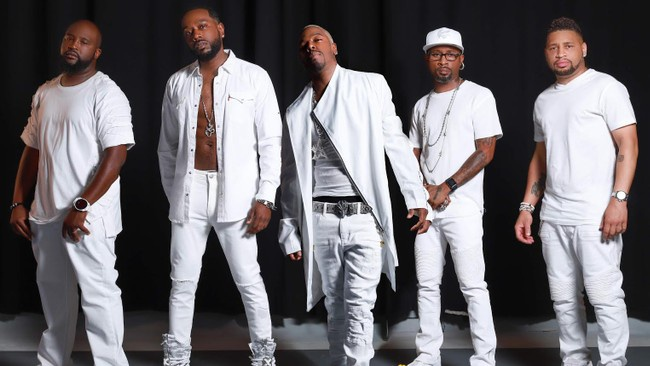bad: (50, 26, 93, 70), (540, 31, 583, 74), (175, 12, 218, 55), (425, 46, 461, 82), (293, 26, 329, 62)
